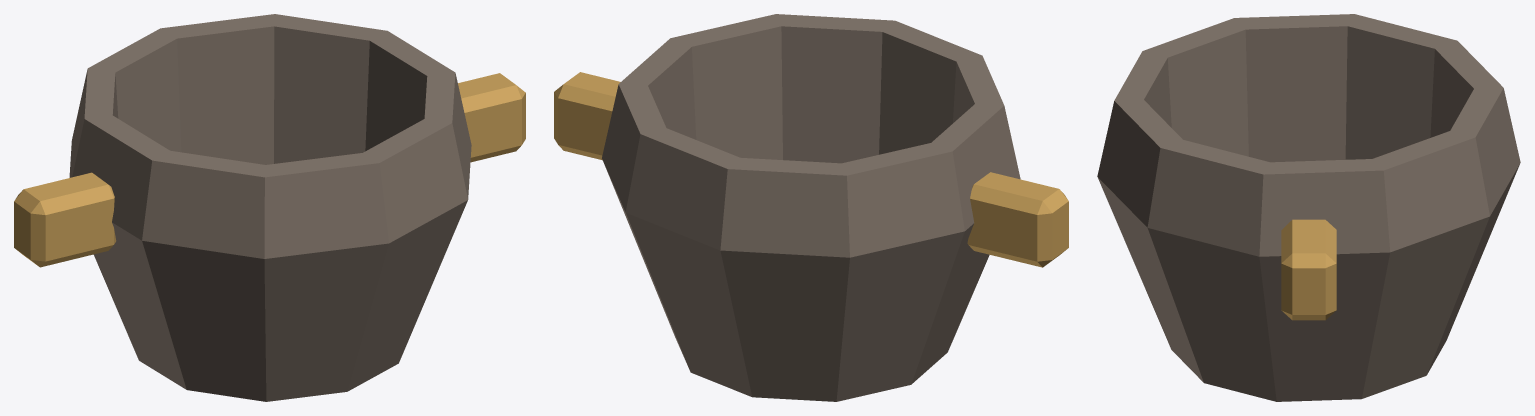
The model's file is pot.glb.
3 renders of one model, left to right at view 1: azimuth 30°, elevation 25°; view 2: azimuth 150°, elevation 25°; view 3: azimuth 270°, elevation 25°, orthographic.
Parts seen in each view (by area): view 1: Pot, Grip, Grip_001; view 2: Pot, Grip, Grip_001; view 3: Pot, Grip_001.
Boxes of the visible parts, x1=… form: Pot: x1=69, y1=14, x2=471, y2=401; Grip: x1=14, y1=172, x2=116, y2=267; Grip_001: x1=458, y1=73, x2=525, y2=162; Pot: x1=602, y1=14, x2=1020, y2=401; Grip: x1=967, y1=172, x2=1068, y2=267; Grip_001: x1=554, y1=72, x2=620, y2=160; Pot: x1=1097, y1=14, x2=1520, y2=401; Grip_001: x1=1281, y1=219, x2=1336, y2=320.
Size of the model in its own units: 0.6256 by 0.3 by 0.4586.
